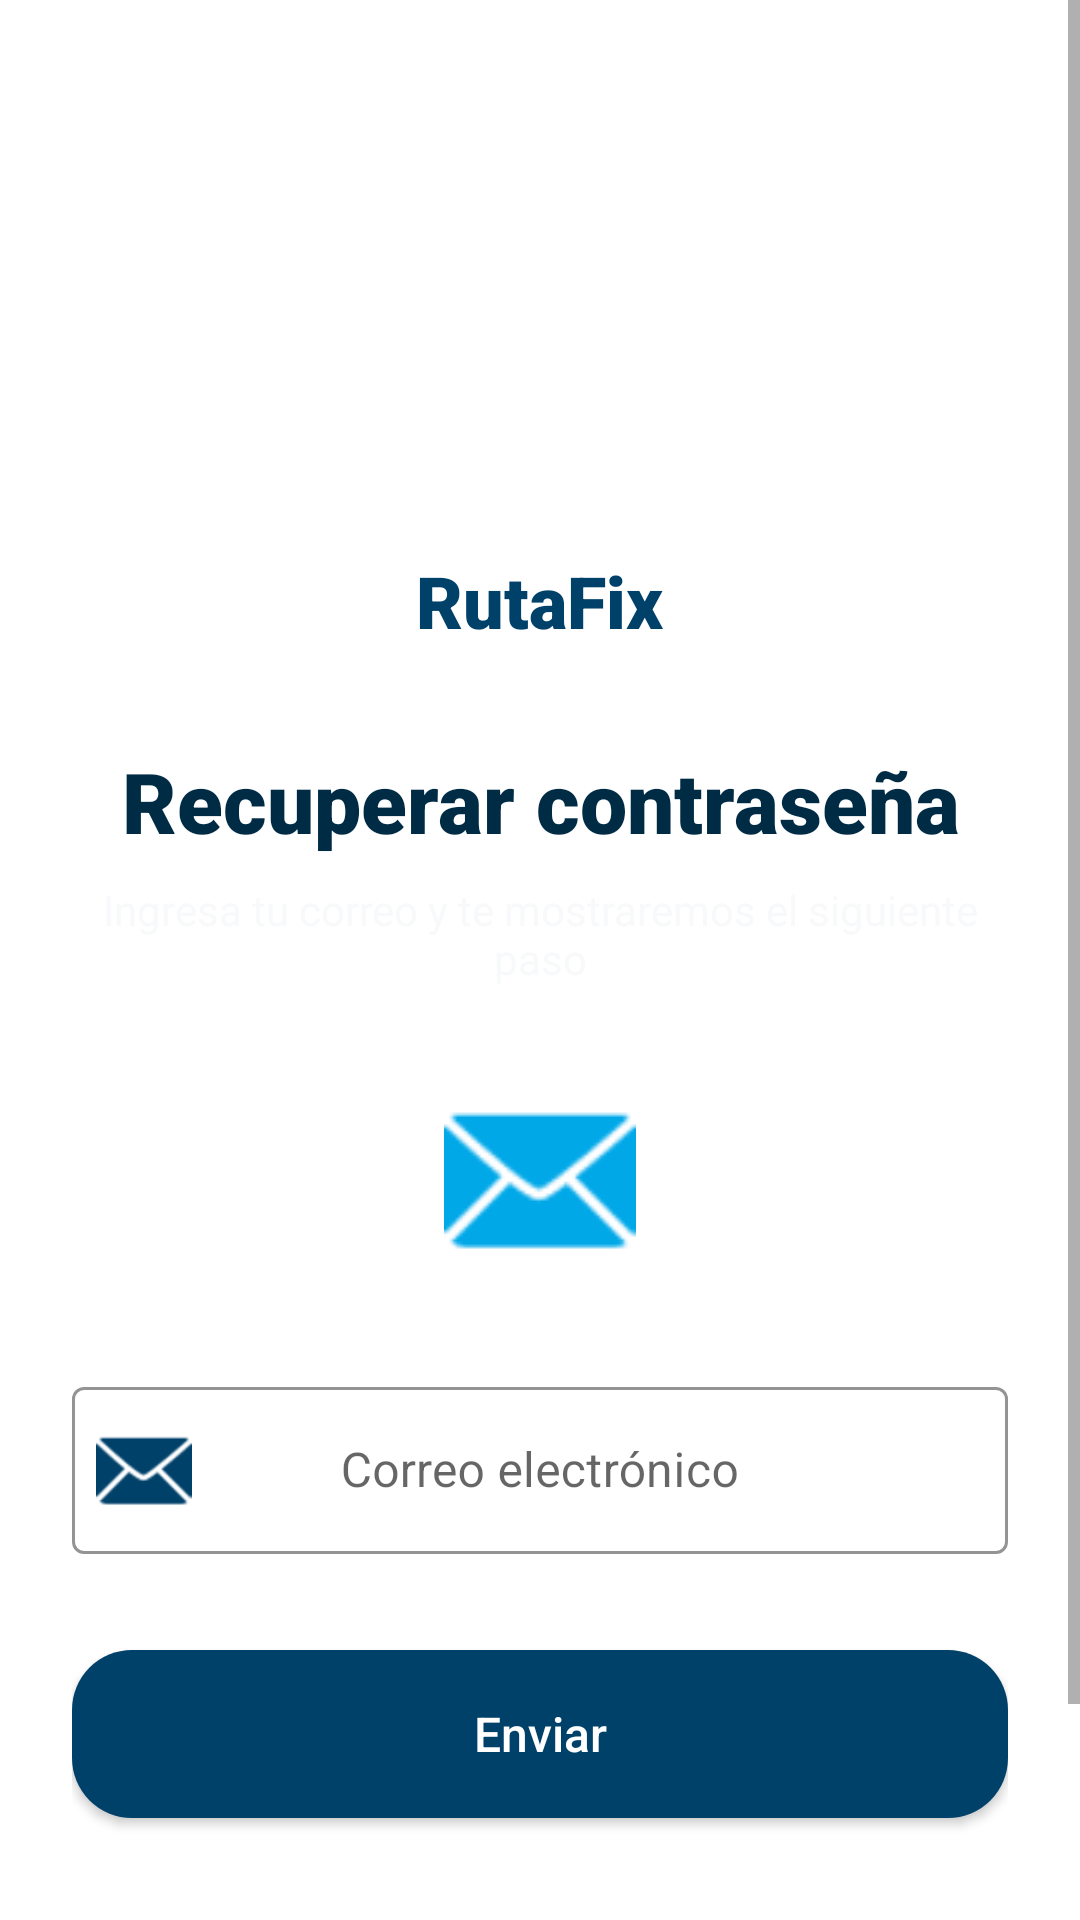

Screen size 1080 × 1920. Icon name, then its center in pixels as point (x, y):
email: point (540, 1180)
